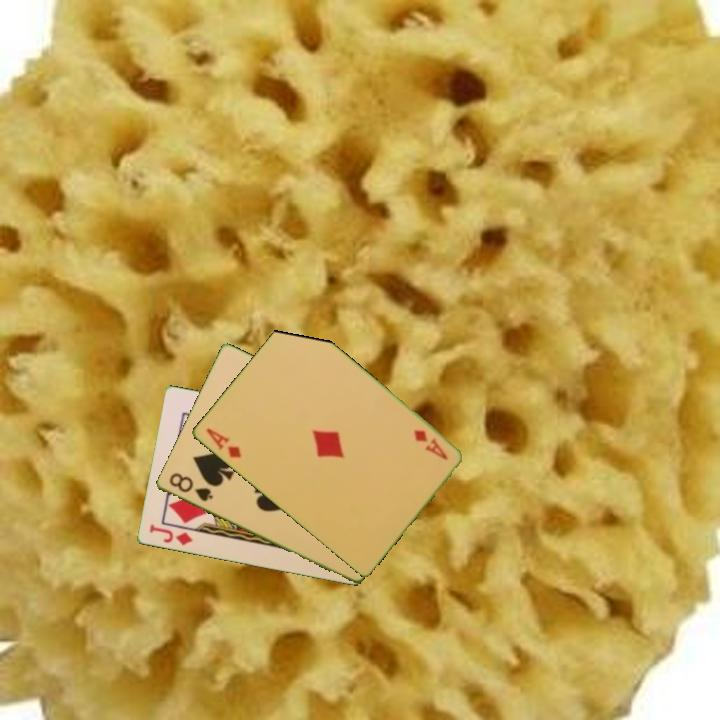8s: (165, 469, 216, 505)
Ad: (409, 426, 451, 463), (202, 425, 244, 461)
Jd: (145, 521, 196, 548)
